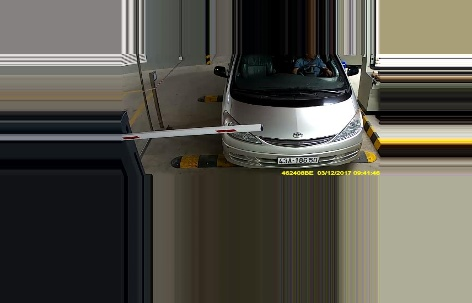plate: (277, 154, 321, 166)
